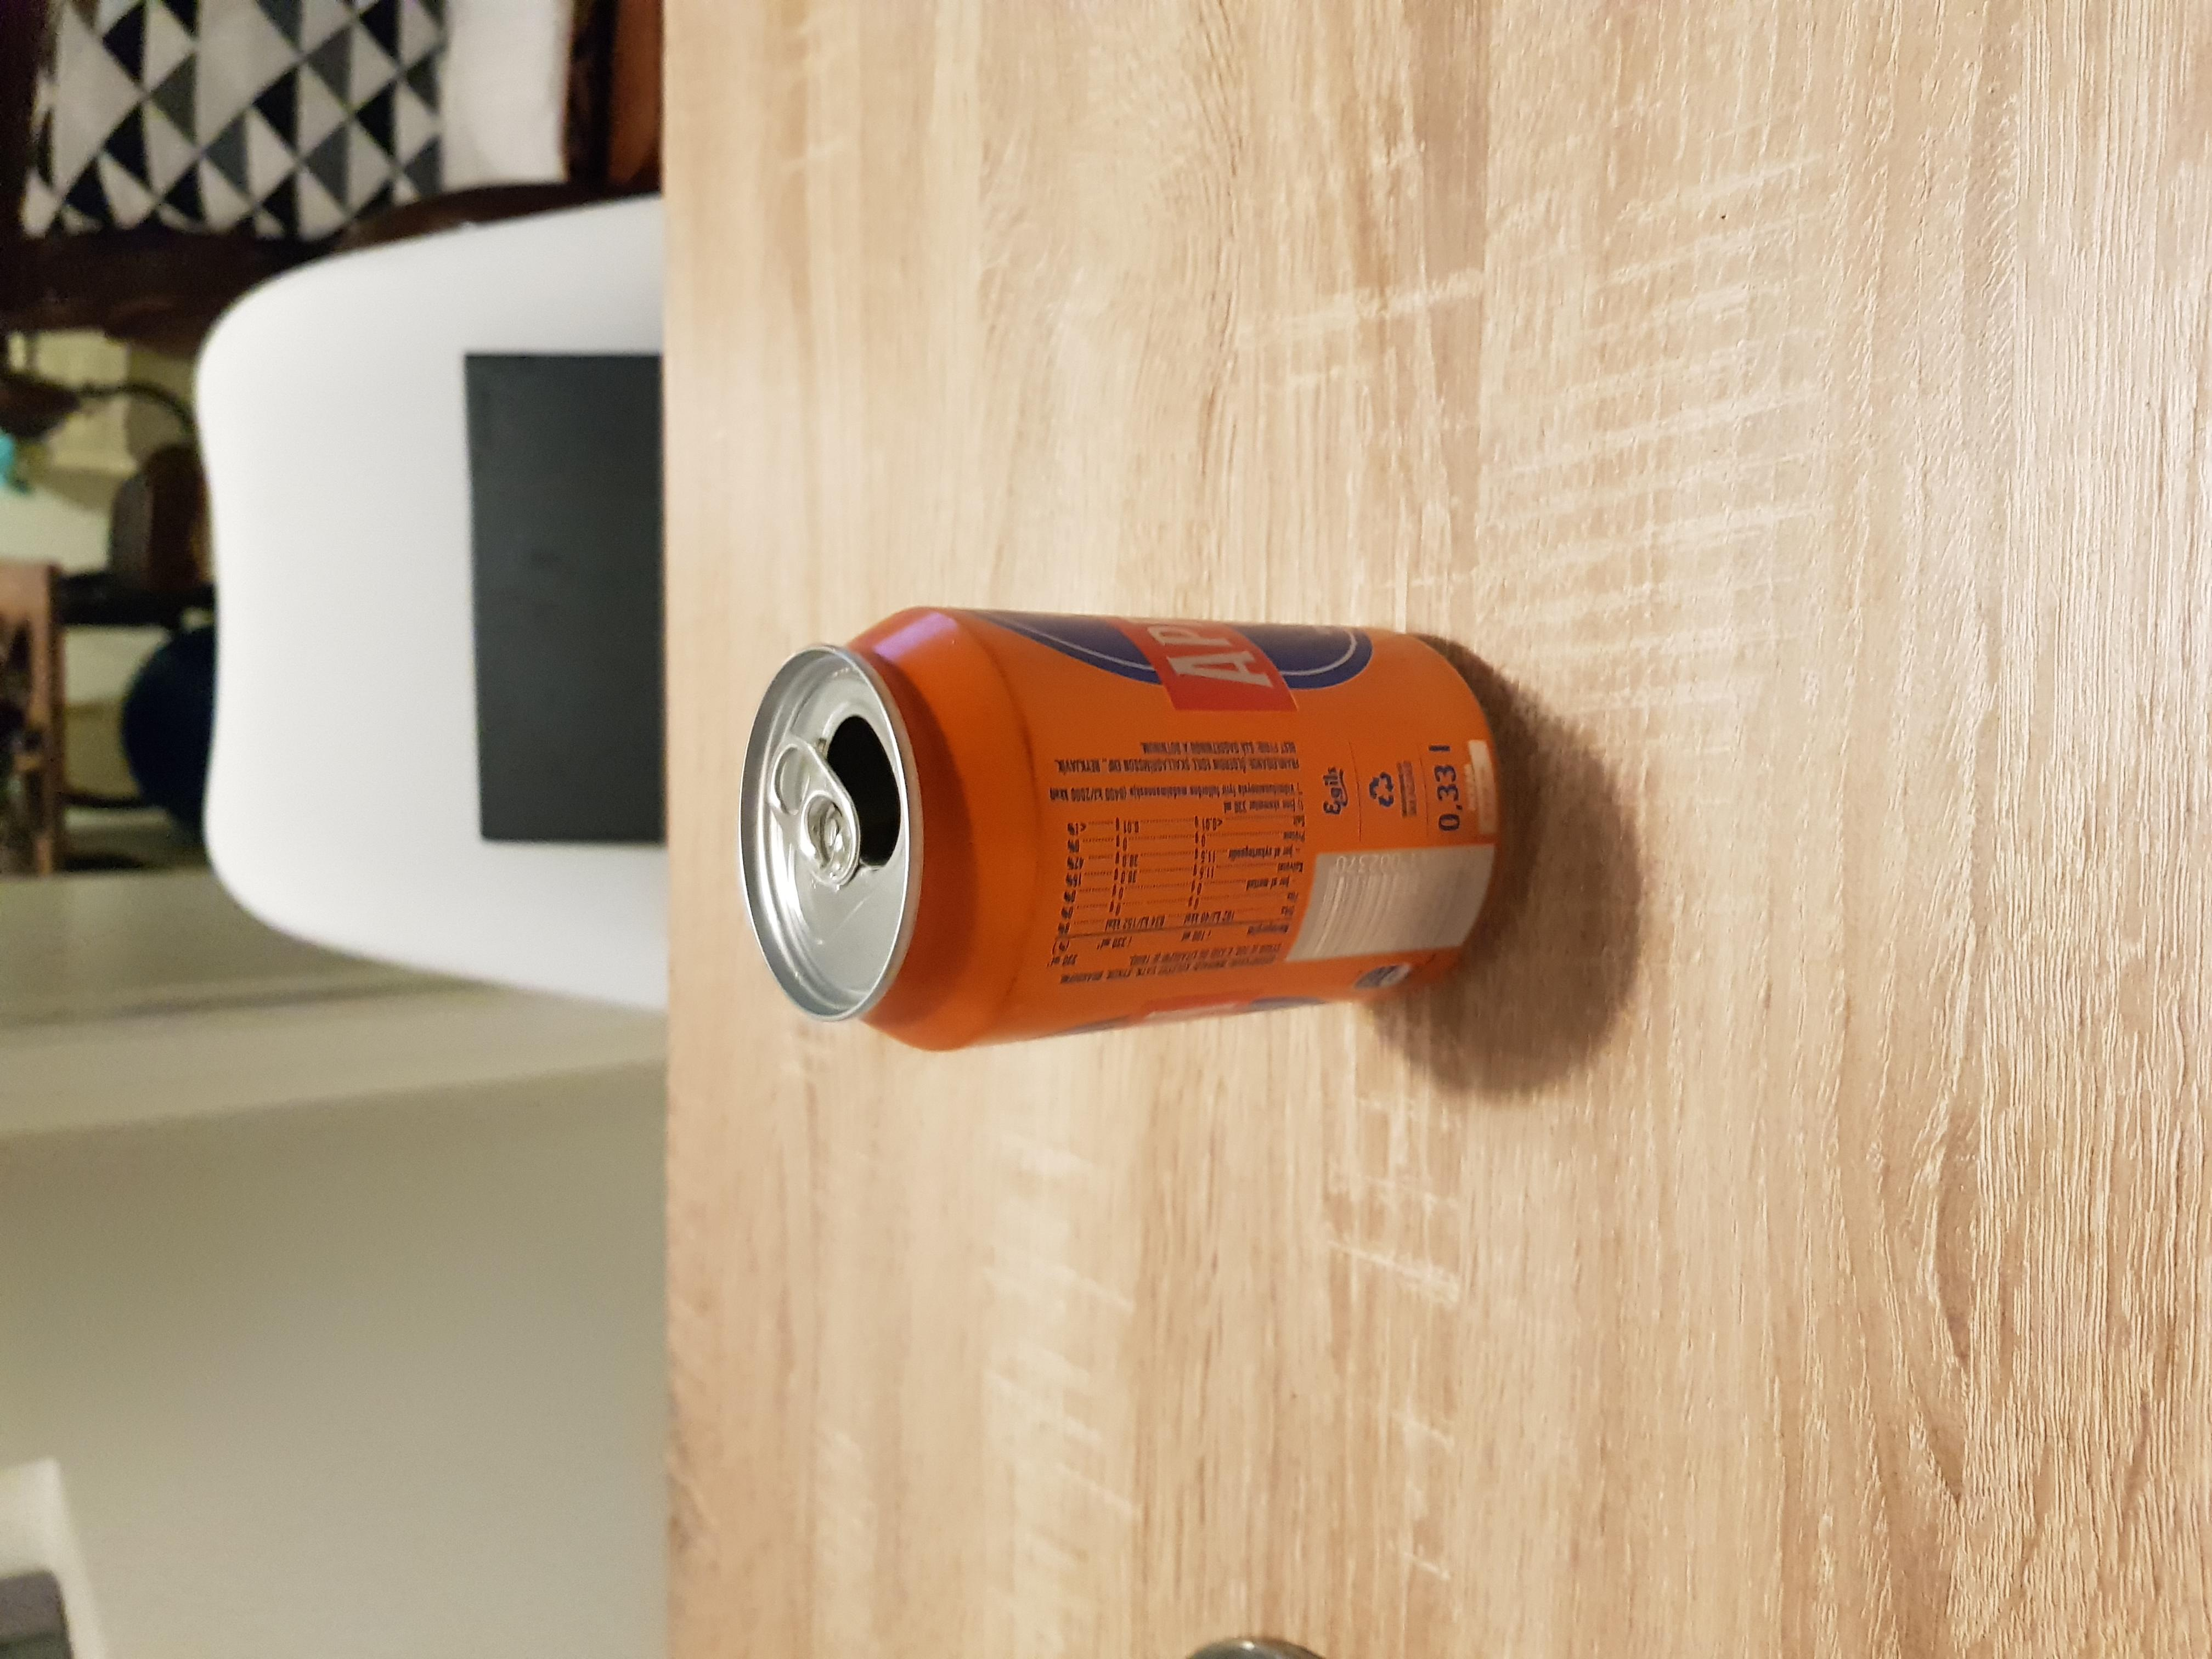can: (738, 603, 1515, 1056)
